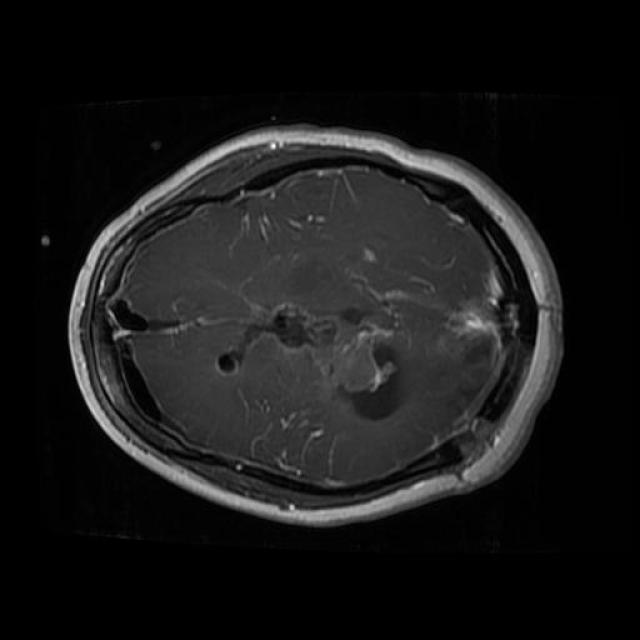Glioma: (338, 324, 426, 419), (106, 296, 161, 421), (265, 307, 328, 347), (211, 340, 252, 388)
